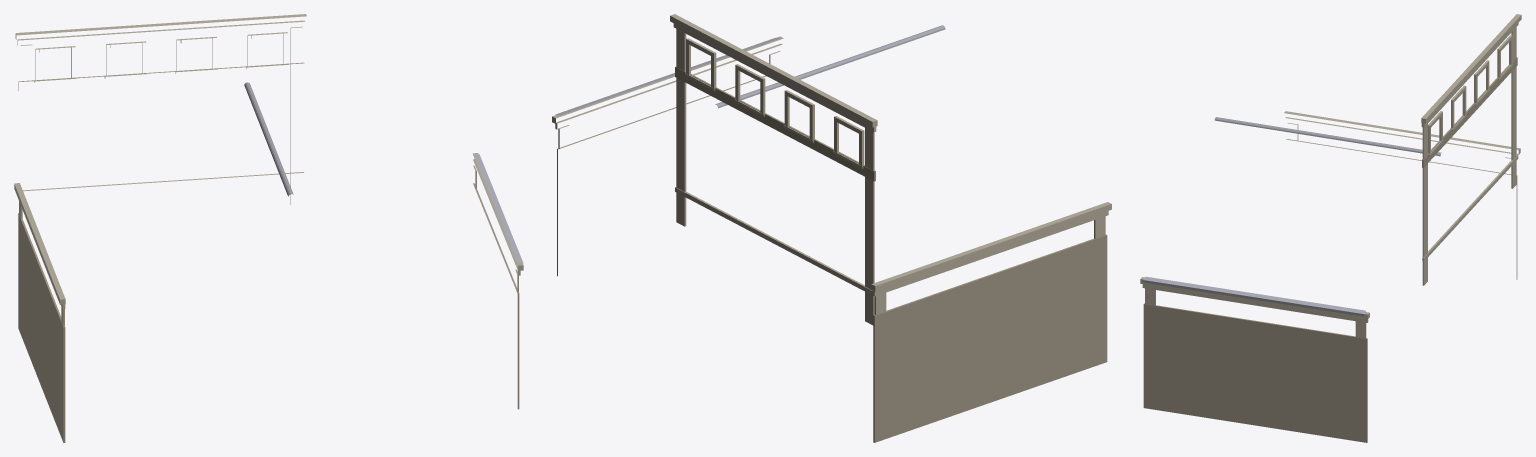
3 views of the same model, side by side, from view 1: azimuth 30°, elevation 25°; view 2: azimuth 150°, elevation 25°; view 3: azimuth 270°, elevation 25° (orthographic). The views are drawn at different scales.
Parts seen in each view (by area): view 1: detail; view 2: detail; view 3: detail.
Boxes of the visible parts, left/top/right/bottom form: detail: left=14, top=14, right=523, bottom=442; detail: left=552, top=14, right=1111, bottom=442; detail: left=1140, top=14, right=1521, bottom=442.
Bounding box in the file's own units: 26.17 × 15.85 × 20.71.
